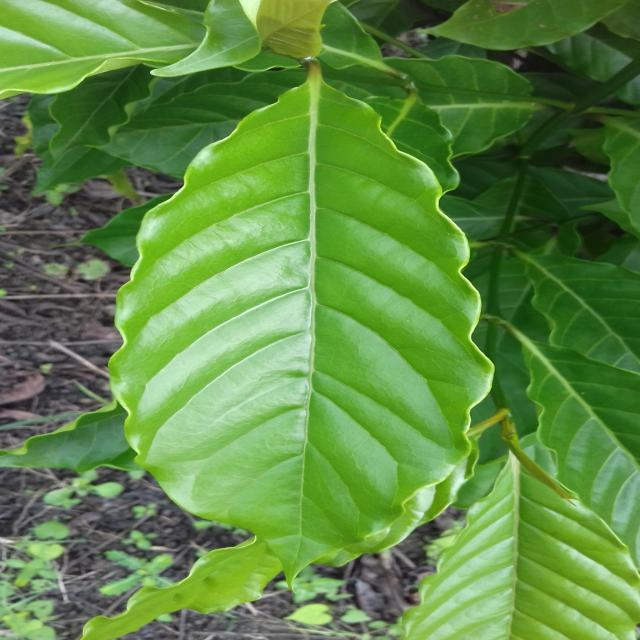Sanas: (53, 38, 522, 632)
